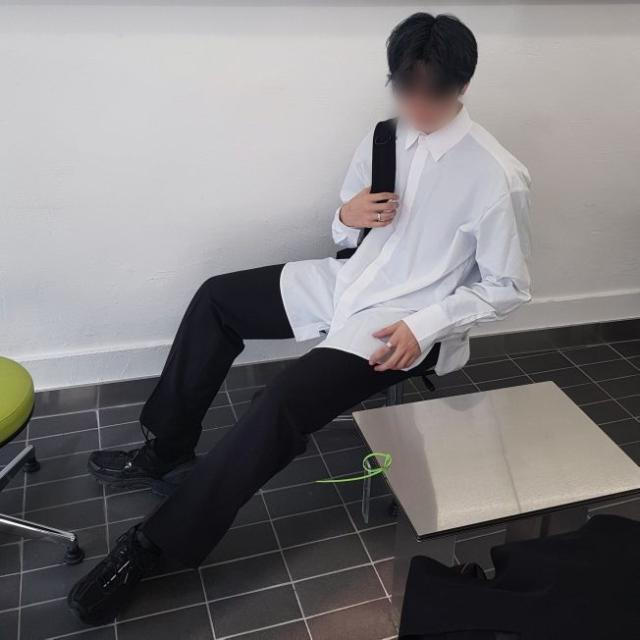shirt: (313, 106, 534, 369)
slacks: (135, 261, 442, 576)
